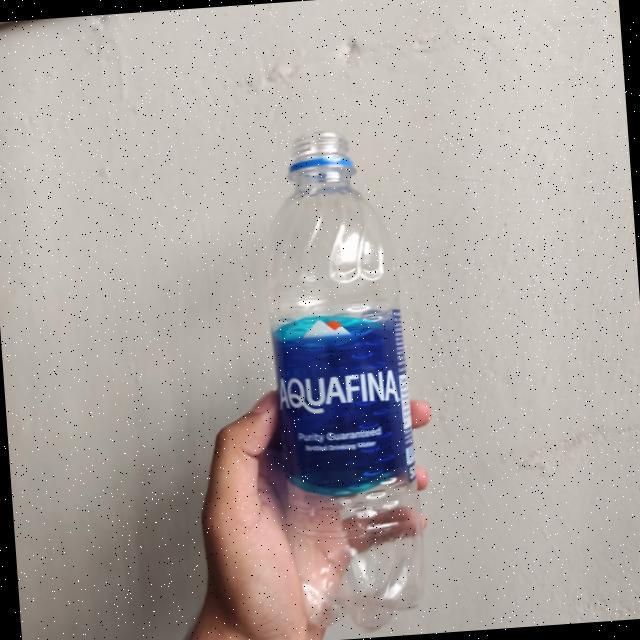bottle: (254, 124, 434, 626)
label: (264, 294, 421, 502)
